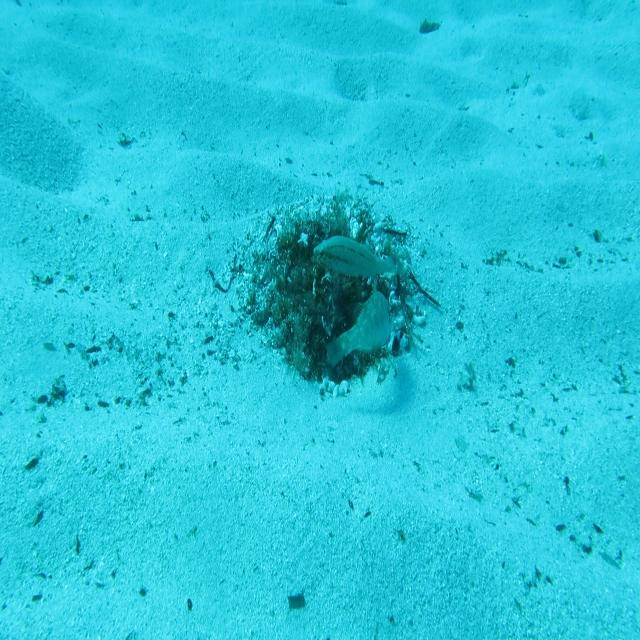BEND: (325, 276, 395, 371)
core_nest: (299, 240, 350, 295)
female: (312, 233, 405, 280)
nest: (226, 181, 436, 408)
vegetation: (418, 14, 443, 35), (288, 589, 308, 611)
